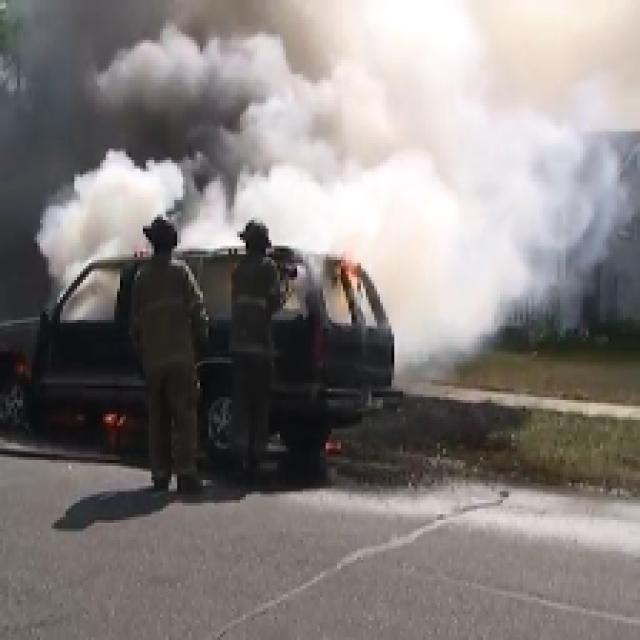smoke: (354, 13, 556, 286), (96, 3, 330, 234)
